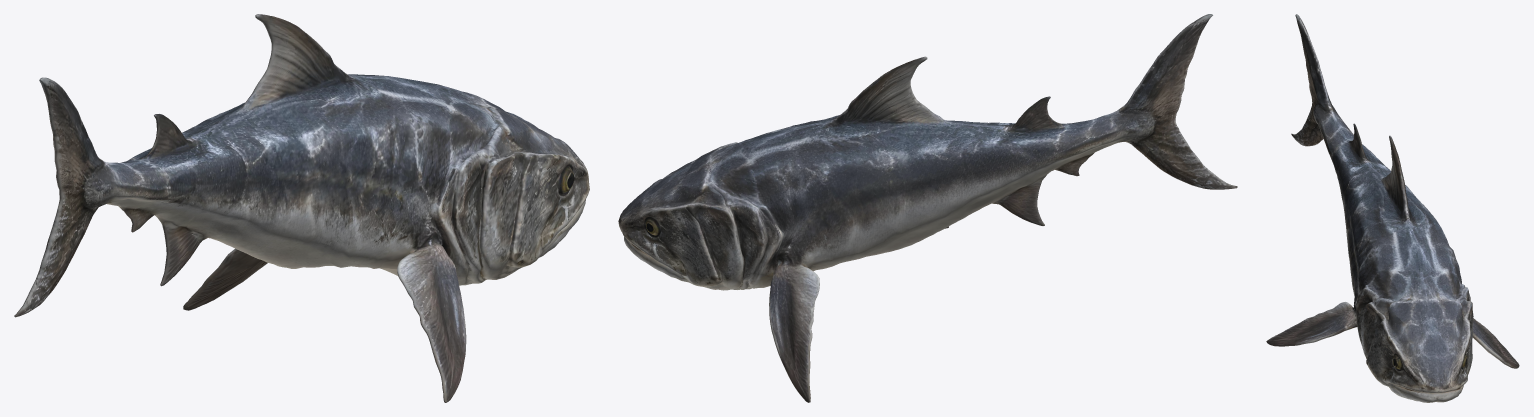
The model's file is birgeria.preview.glb.
The picture shows the model from 3 angles, left to right: view 1: azimuth 30°, elevation 25°; view 2: azimuth 150°, elevation 25°; view 3: azimuth 270°, elevation 25°; orthographic projection. The views are drawn at different scales.
Parts seen in each view (by area): view 1: tripo_node_3dc0dbb9-5dd8-407f-9f76-5500d926e63f.001; view 2: tripo_node_3dc0dbb9-5dd8-407f-9f76-5500d926e63f.001; view 3: tripo_node_3dc0dbb9-5dd8-407f-9f76-5500d926e63f.001.
Part boxes in pixels (x1,y1,x2,y2): tripo_node_3dc0dbb9-5dd8-407f-9f76-5500d926e63f.001: [14, 14, 589, 402]; tripo_node_3dc0dbb9-5dd8-407f-9f76-5500d926e63f.001: [618, 14, 1237, 402]; tripo_node_3dc0dbb9-5dd8-407f-9f76-5500d926e63f.001: [1266, 14, 1519, 402].
Bounding box in the file's own units: 1 × 0.6306 × 0.558.
1 material, 1 textured.
